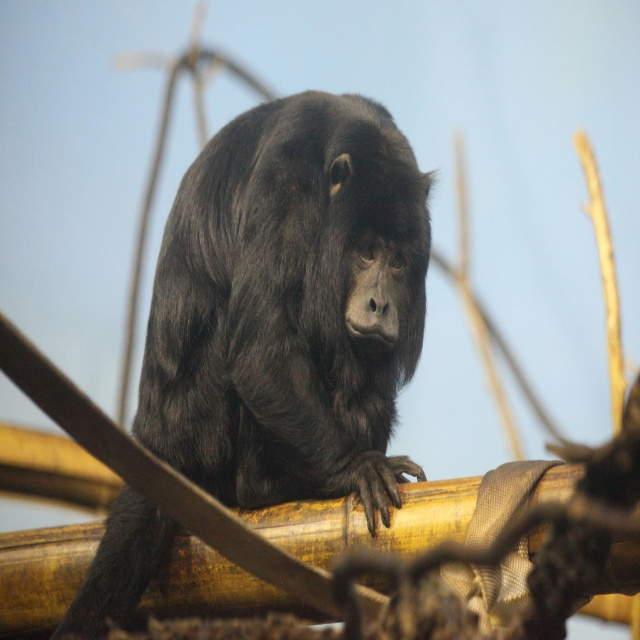Monkey: (54, 89, 440, 638)
